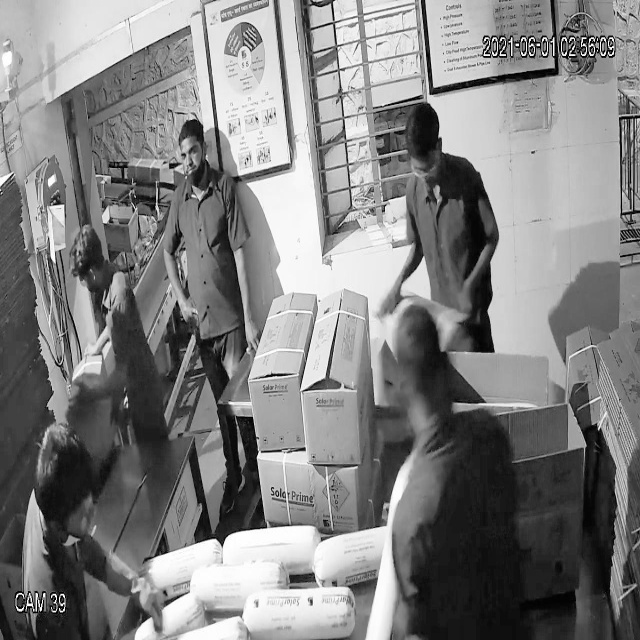Gafas: (406, 148, 443, 186)
